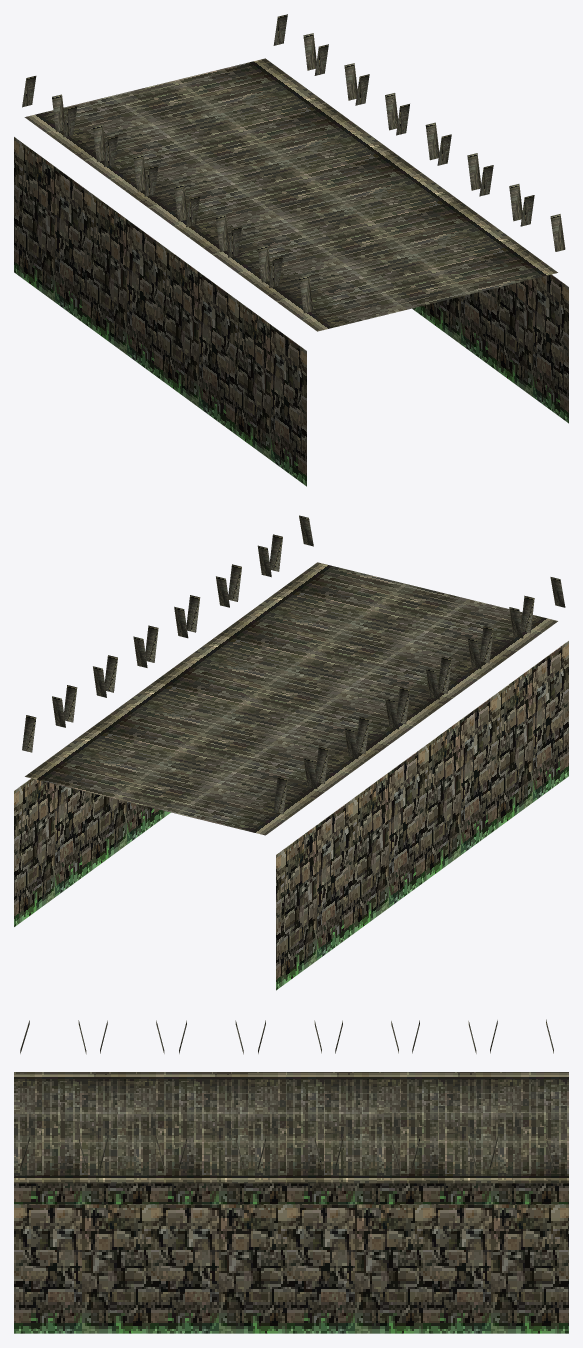
The model's file is Civilian - Civilian Building - Great Wall Middle - CMWalChna1.glb.
3 views of the same model, one above another, from view 1: azimuth 30°, elevation 25°; view 2: azimuth 150°, elevation 25°; view 3: azimuth 270°, elevation 25° (orthographic). The views are drawn at different scales.
Parts seen in each view (by area): view 1: CMWALCHNA1; view 2: CMWALCHNA1; view 3: CMWALCHNA1.
Part boxes in pixels (x1,y1,x2,y2): CMWALCHNA1: (14,14,568,486); CMWALCHNA1: (14,515,568,990); CMWALCHNA1: (14,1019,568,1333).
Size of the model in its own units: 58.67 by 43.6 by 114.
4 materials, 4 textured.
